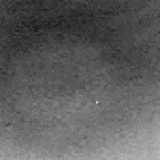Target: (93, 98, 99, 106)
